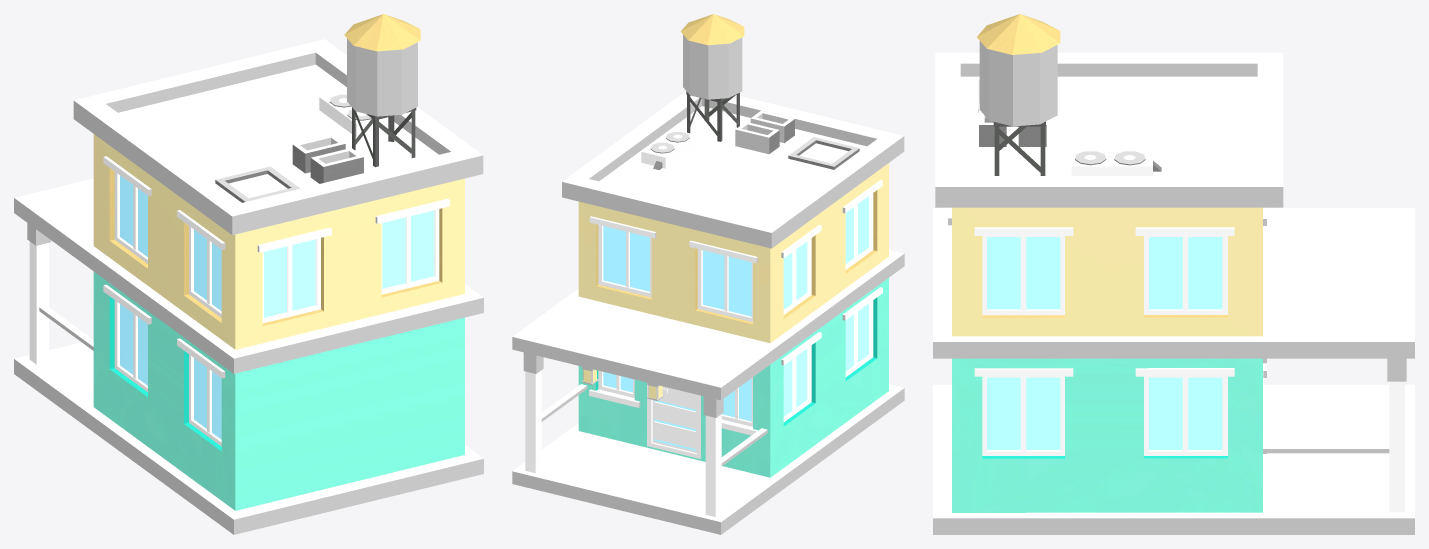
Rendered from dwelling.008.glb.
3 renders of one model, left to right at view 1: azimuth 30°, elevation 25°; view 2: azimuth 150°, elevation 25°; view 3: azimuth 270°, elevation 25°, orthographic. The views are drawn at different scales.
Parts seen in each view (by area): view 1: dwelling.008(Clone); view 2: dwelling.008(Clone); view 3: dwelling.008(Clone).
Boxes of the visible parts, x1,y1,x2,y2 form: dwelling.008(Clone): (14,14,483,534); dwelling.008(Clone): (512,14,904,534); dwelling.008(Clone): (933,14,1414,534).
Size of the model in its own units: 4.92 by 8.35 by 7.46.
Materials: 1 (1 with a texture image).
